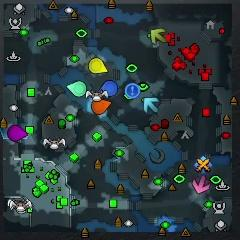Other: (194, 156, 212, 174), (125, 83, 140, 99)
p1: (101, 81, 117, 96)
p2: (68, 81, 86, 97)
p3: (8, 125, 27, 141)
p4: (90, 58, 109, 73)
p5: (90, 99, 111, 115)
x1: (192, 174, 209, 193)
x2: (150, 28, 166, 45)
x3: (143, 97, 159, 112)
